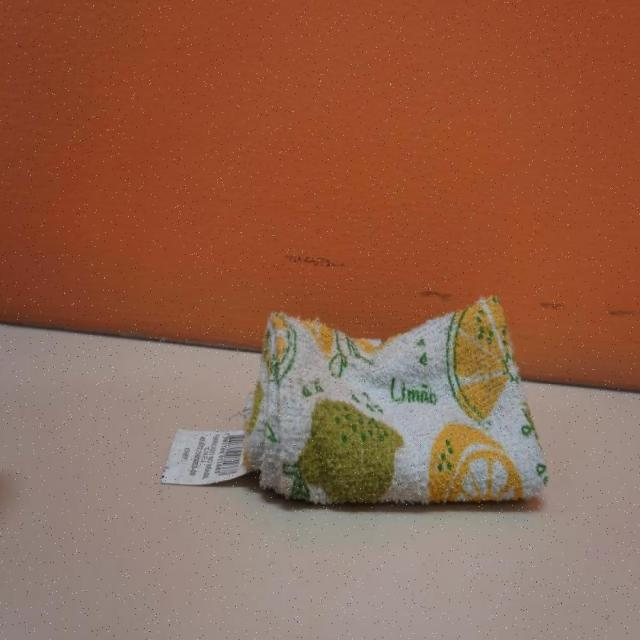Cloth: (161, 296, 549, 511)
